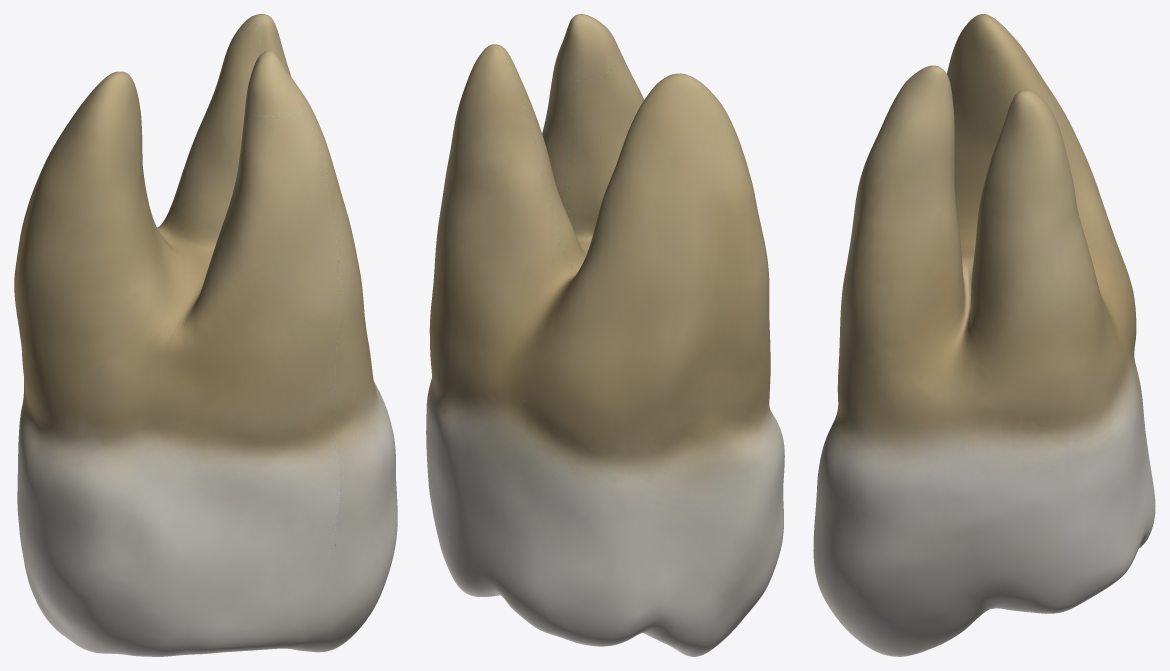
The model's file is maxillary_second_molar.glb.
The picture shows the model from 3 angles, left to right: view 1: azimuth 30°, elevation 25°; view 2: azimuth 150°, elevation 25°; view 3: azimuth 270°, elevation 25°; orthographic projection. The views are drawn at different scales.
Visible parts, largest first — view 1: Object_2; view 2: Object_2; view 3: Object_2.
Part boxes in pixels (<box>): Object_2: <box>14,14,397,656</box>; Object_2: <box>426,14,784,656</box>; Object_2: <box>813,14,1155,656</box>.
Bounding box in the file's own units: 0.9303 × 1.58 × 0.8568.
Materials: 1 (1 with a texture image).
